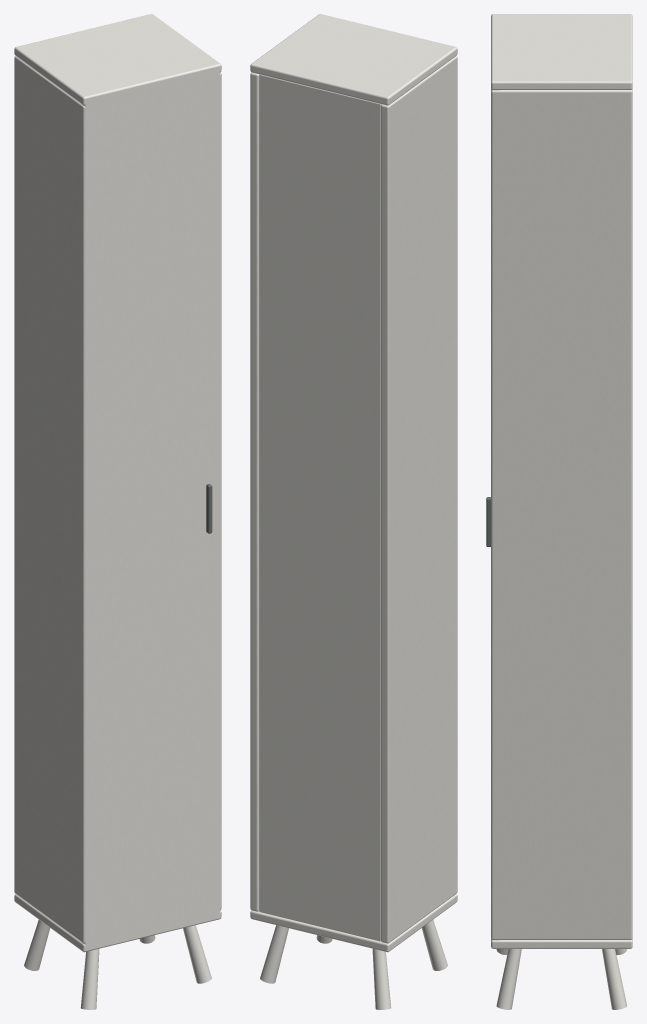
Rendered from nysjon.glb.
3 views of the same model, side by side, from view 1: azimuth 30°, elevation 25°; view 2: azimuth 150°, elevation 25°; view 3: azimuth 270°, elevation 25° (orthographic).
Parts seen in each view (by area): view 1: NYSJÖN Tall bathroom cabinet; view 2: NYSJÖN Tall bathroom cabinet; view 3: NYSJÖN Tall bathroom cabinet.
Part boxes in pixels (x1,y1,x2,y2): NYSJÖN Tall bathroom cabinet: (14,14,221,1009); NYSJÖN Tall bathroom cabinet: (250,14,457,1009); NYSJÖN Tall bathroom cabinet: (486,14,632,1009).
Size of the model in its own units: 0.3 by 1.9 by 0.27.
Materials: 2 (1 with a texture image).
